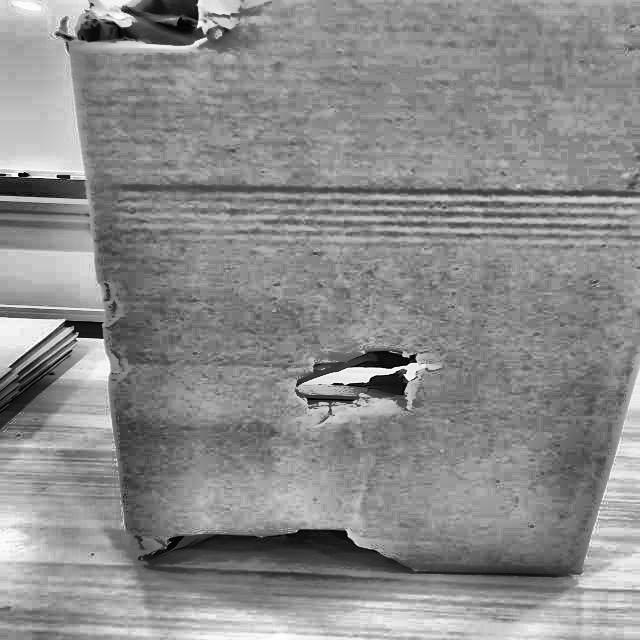box: (49, 0, 639, 585)
hole: (119, 518, 416, 578), (298, 344, 448, 422), (57, 0, 230, 62)
